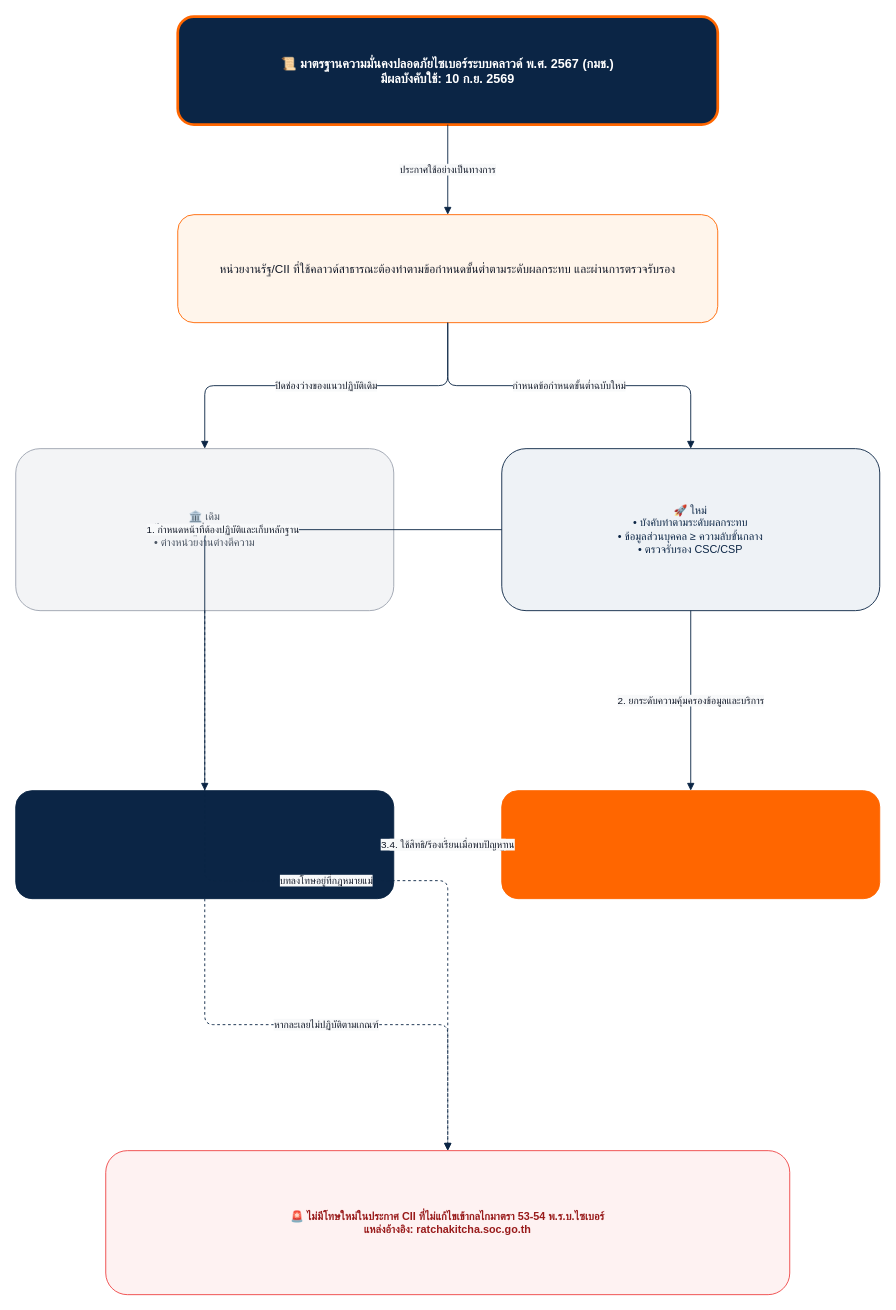
Image size: 896x1310. Some labels were removed from this diagram. The centre of each missing label's shape, as x and y in pixels:
🏢 ผู้ให้บริการคลาวด์ (CSP): [204,844]
👤 หน่วยงานรัฐ/CII ผู้ใช้คลาวด์ (CSC) และประชาชน: [690,844]
